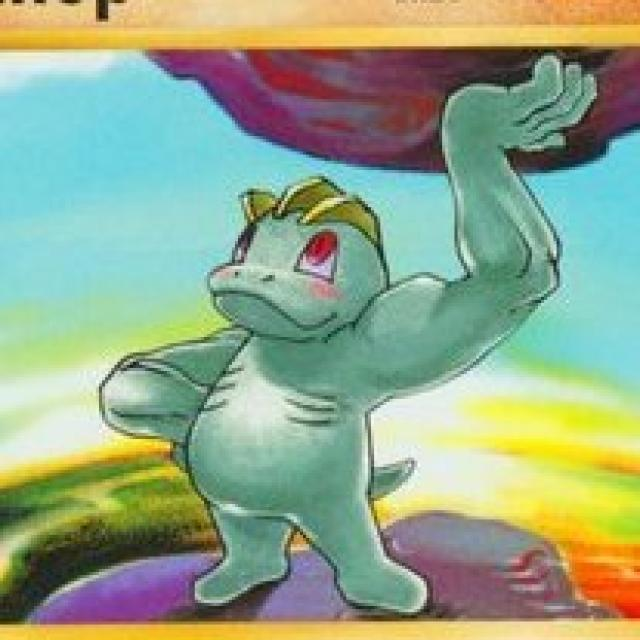Machop: (115, 163, 518, 619)
